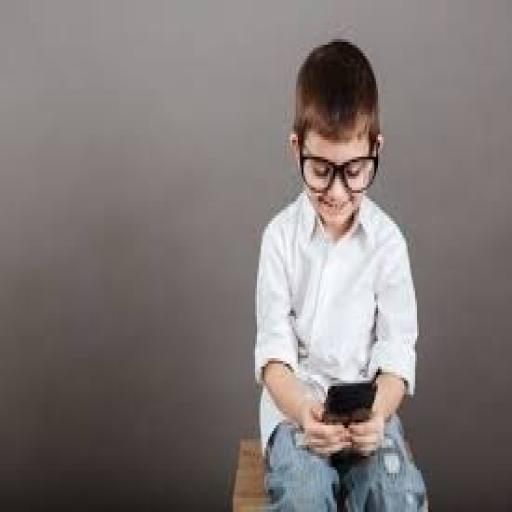texting: (251, 36, 430, 510)
